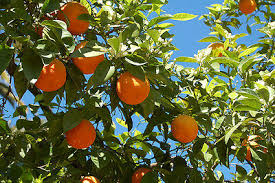orange: (28, 55, 68, 93), (116, 69, 151, 105), (69, 40, 105, 75), (61, 117, 97, 149), (55, 4, 93, 34), (169, 114, 200, 143)
